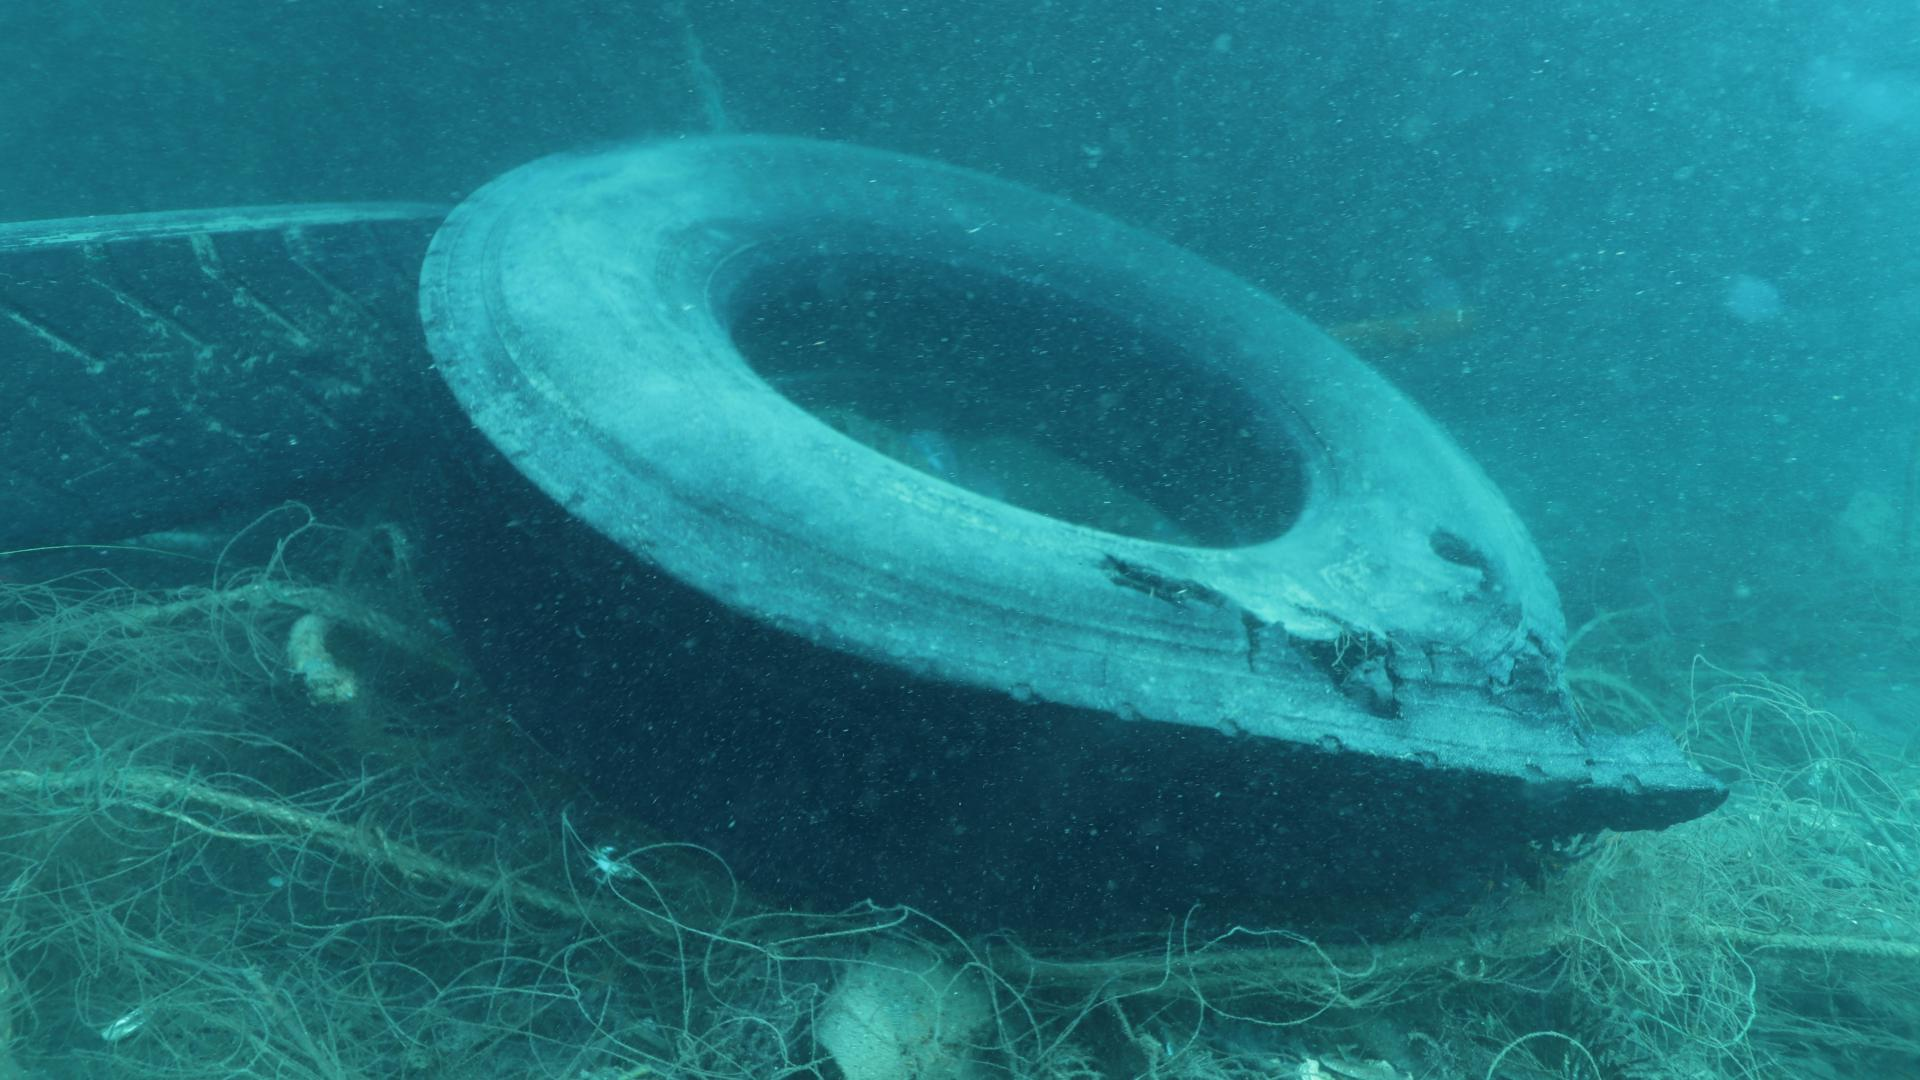tire: (406, 127, 1712, 934)
